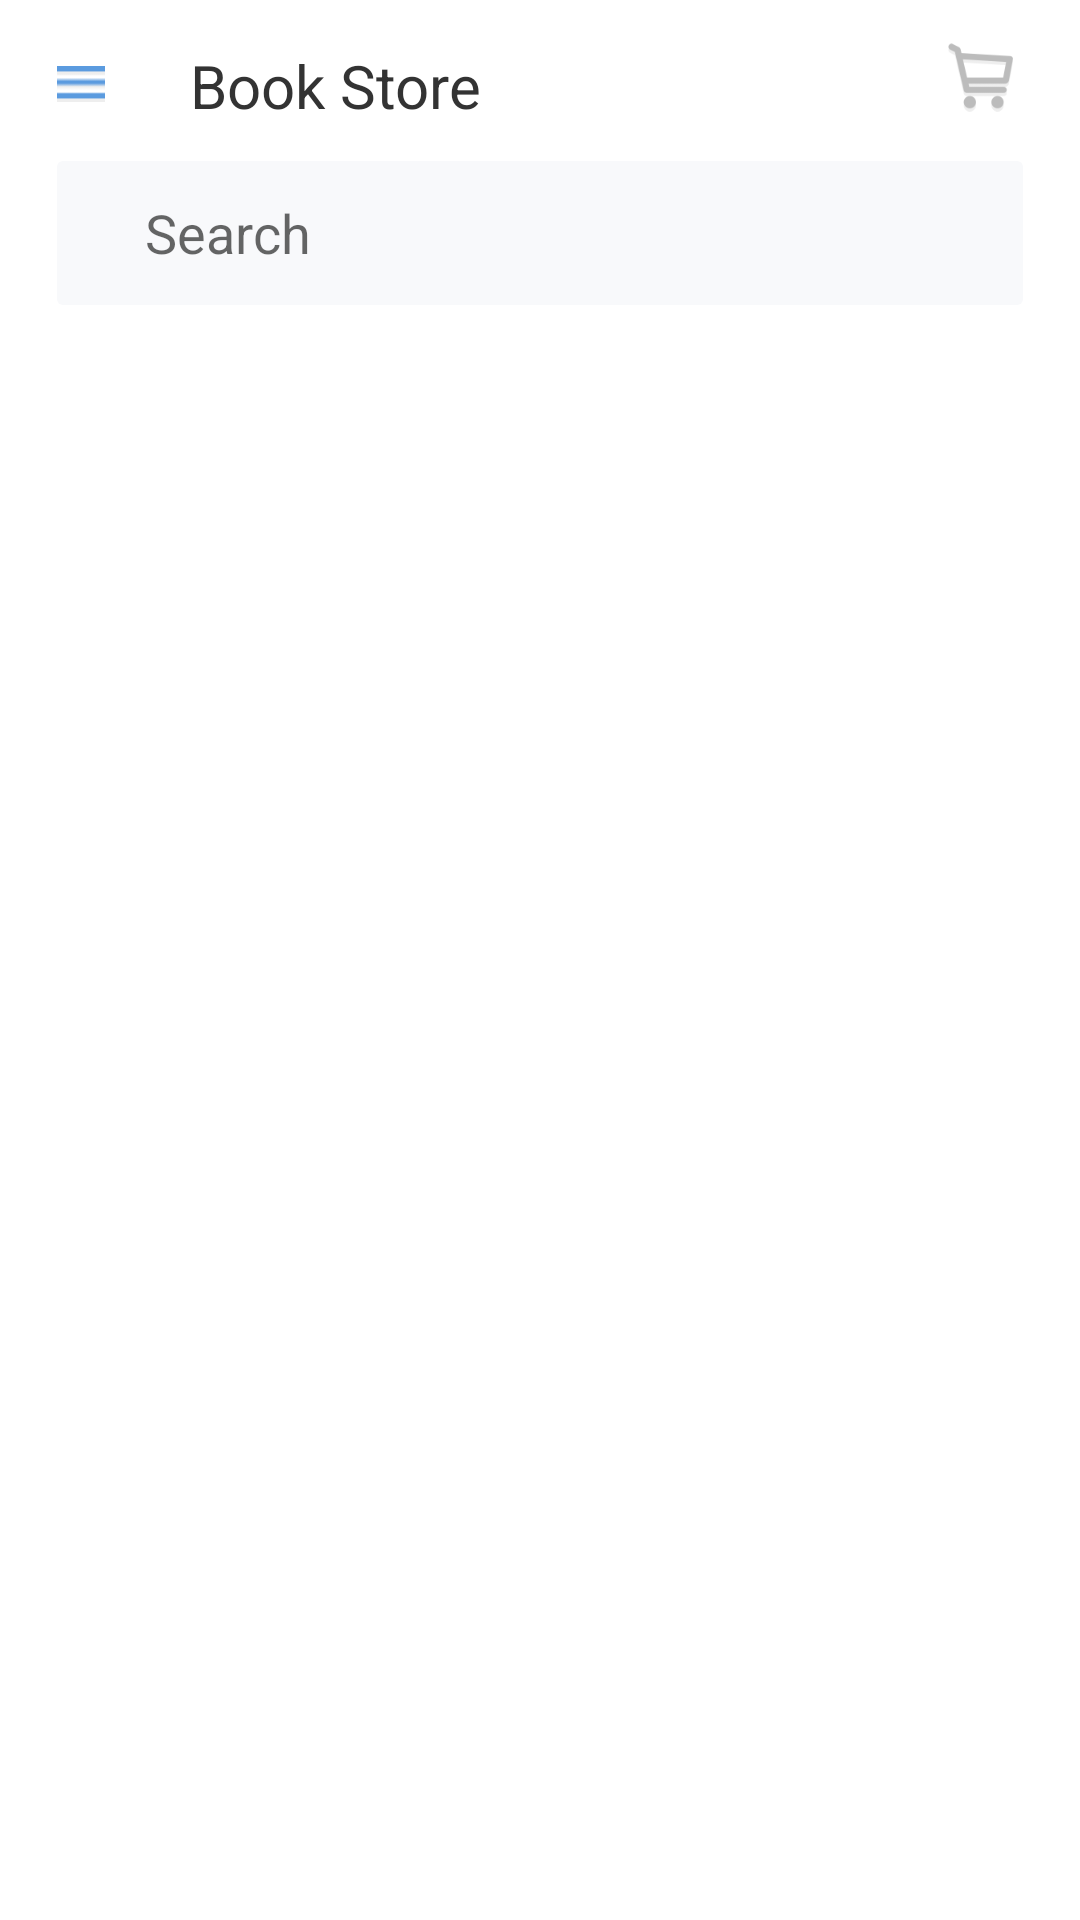

Icons on this 1080 x 1920 Android screen, each with the point to tap as (x,y):
menu: (81,82)
shopping cart: (980,76)
